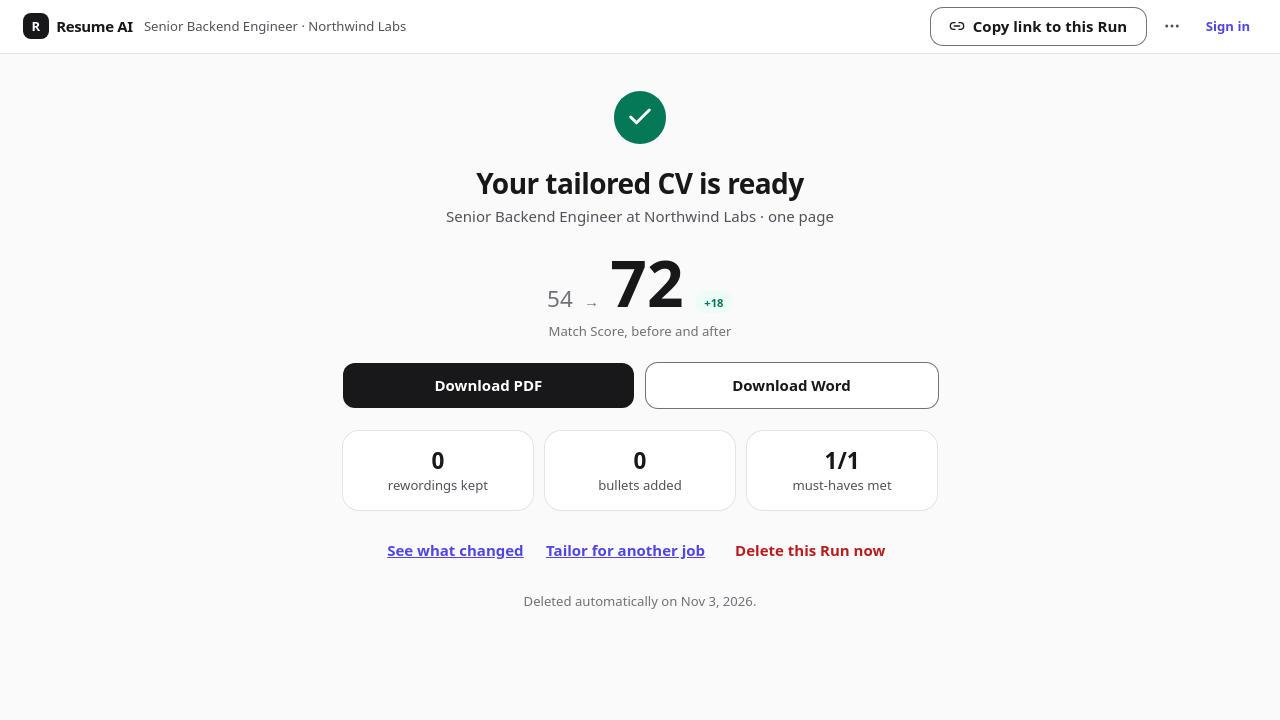
Test: Run actions in the header › the ⋯ menu offers Copy link and Delete Run
Click the button named "Run options": (1172, 26) [1153,8,1191,45]
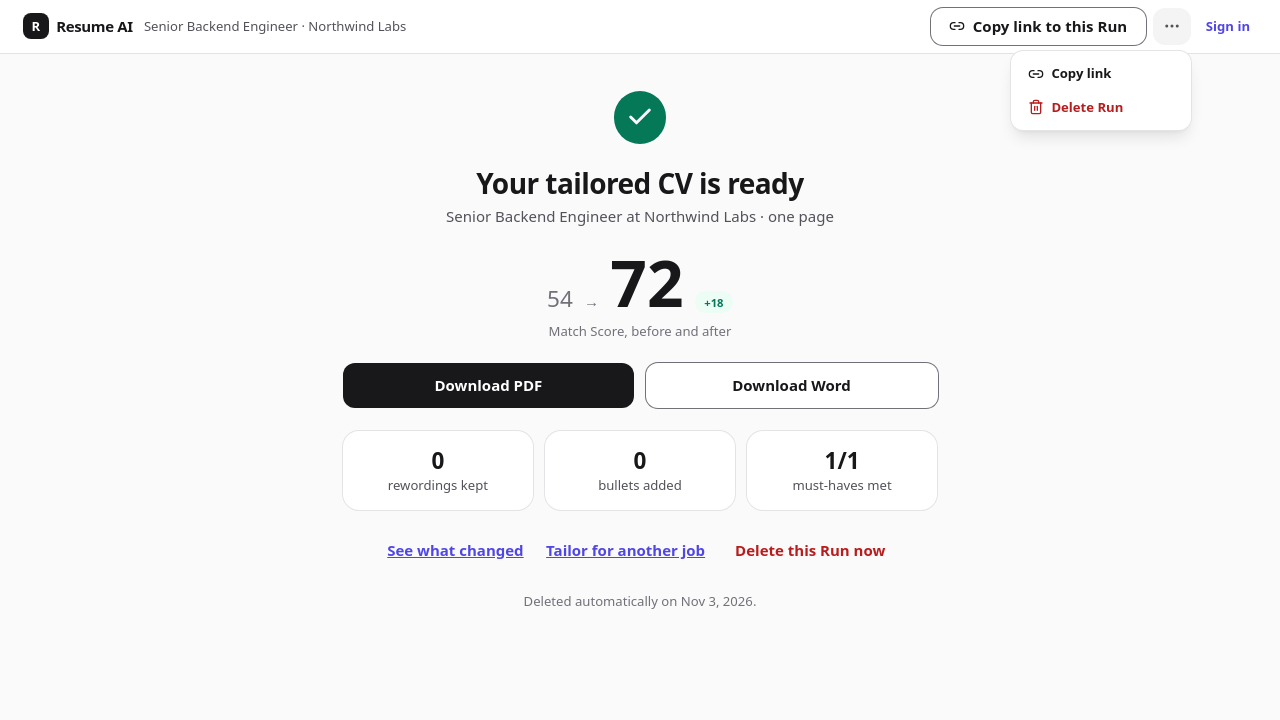
Expected: the menu item "Copy link" is shown, [1028,64,1112,82]
Expected: the menu item "Delete Run" is shown, [1028,98,1123,116]
